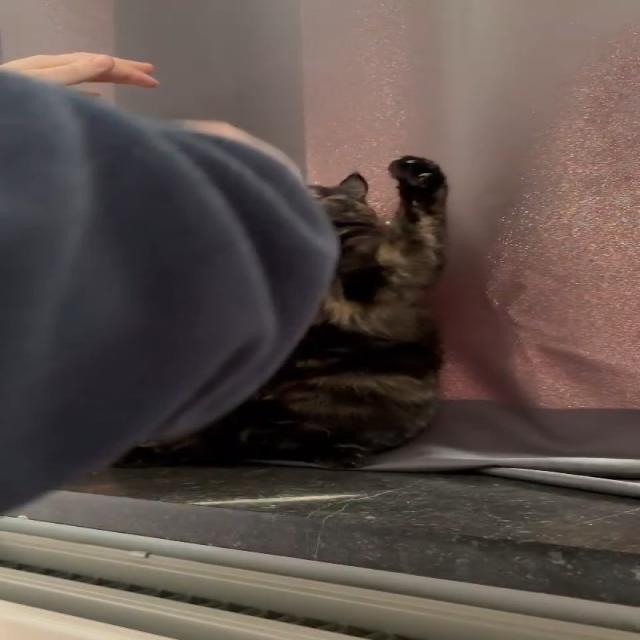authorized: (112, 155, 451, 469)
